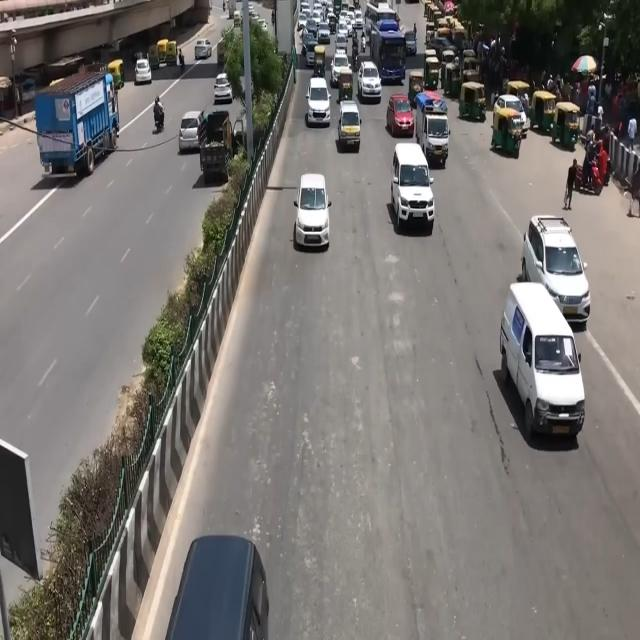auto: (491, 104, 524, 158), (551, 101, 581, 150), (530, 89, 558, 135), (458, 80, 486, 122), (424, 51, 442, 91), (444, 60, 462, 98), (408, 69, 425, 108), (336, 67, 354, 103), (107, 59, 124, 92), (312, 44, 327, 77), (404, 28, 418, 56), (157, 39, 170, 66), (165, 40, 178, 65), (148, 44, 160, 70)
bike-auto: (572, 156, 604, 196), (351, 37, 359, 72)
